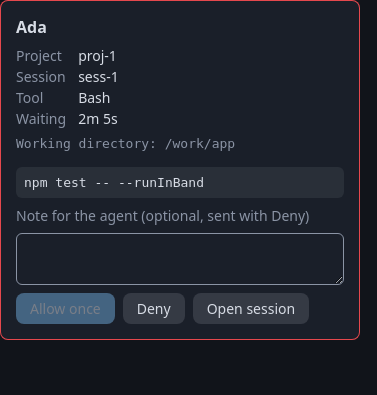
ActionCard: after a decision › Deny ends as 'Sent, unconfirmed', never as allowed, approved or denied (#116 D4)
What coordinates should you click on to do the following:
click the button "Deny"
I would click on:
 (154, 308)
Its box is top-left (123, 293), bottom-right (185, 324).
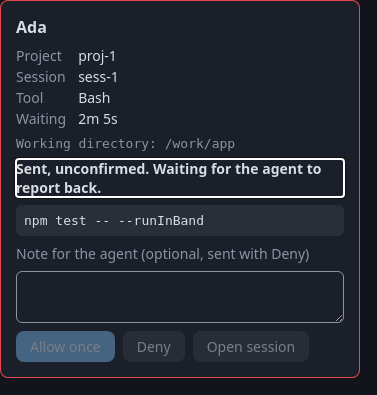
expect the element with test id "action-card" shows "sent, unconfirmed": met, box top-left (16, 159), bottom-right (322, 197)
expect the button "Deny" is disabled: met, box top-left (123, 331), bottom-right (185, 362)
expect the button "Open session" is disabled: met, box top-left (193, 331), bottom-right (309, 362)
